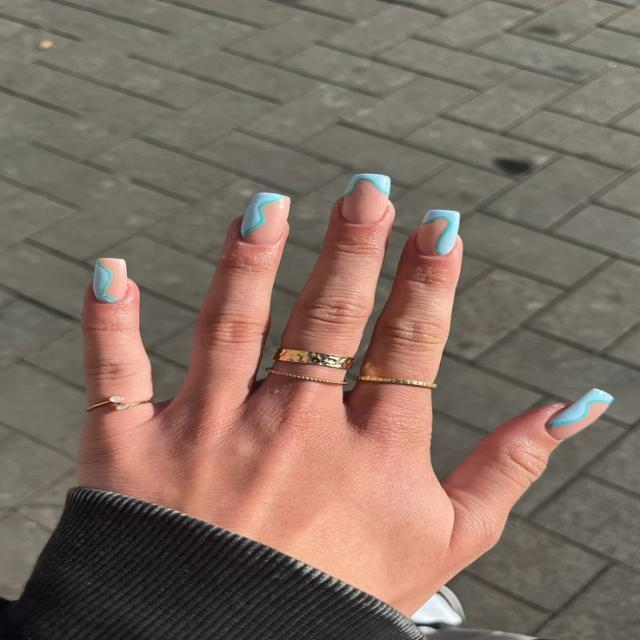Fingernail: (548, 387, 612, 443), (341, 174, 390, 223), (242, 193, 288, 245), (417, 210, 459, 256), (93, 258, 128, 302)
